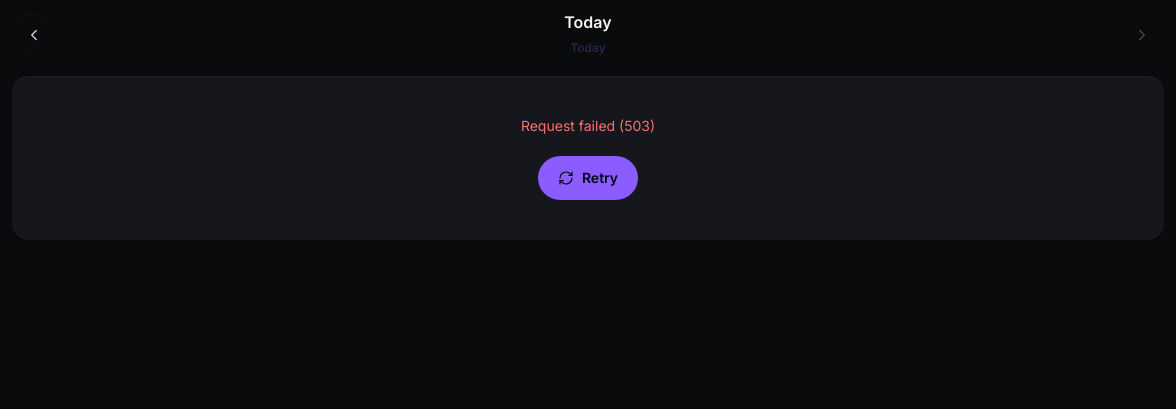
Test case: DiaryDay › fetch failure shows the error state; retry refetches and recovers
Expected: the element with test id "diary-error" is shown, top-left (12, 76), bottom-right (1164, 240)
Click the button with test id "diary-retry" at [588, 178], box top-left (538, 156), bottom-right (638, 200)
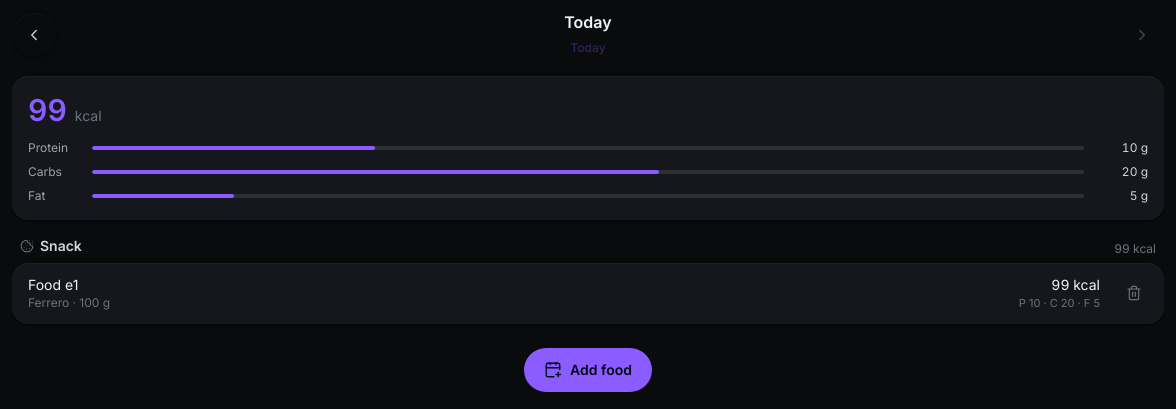
Now the element with test id "daily-totals" is shown, box top-left (12, 76), bottom-right (1164, 220)
Now the text with test id "totals-kcal" reads "99", box top-left (28, 92), bottom-right (67, 128)
